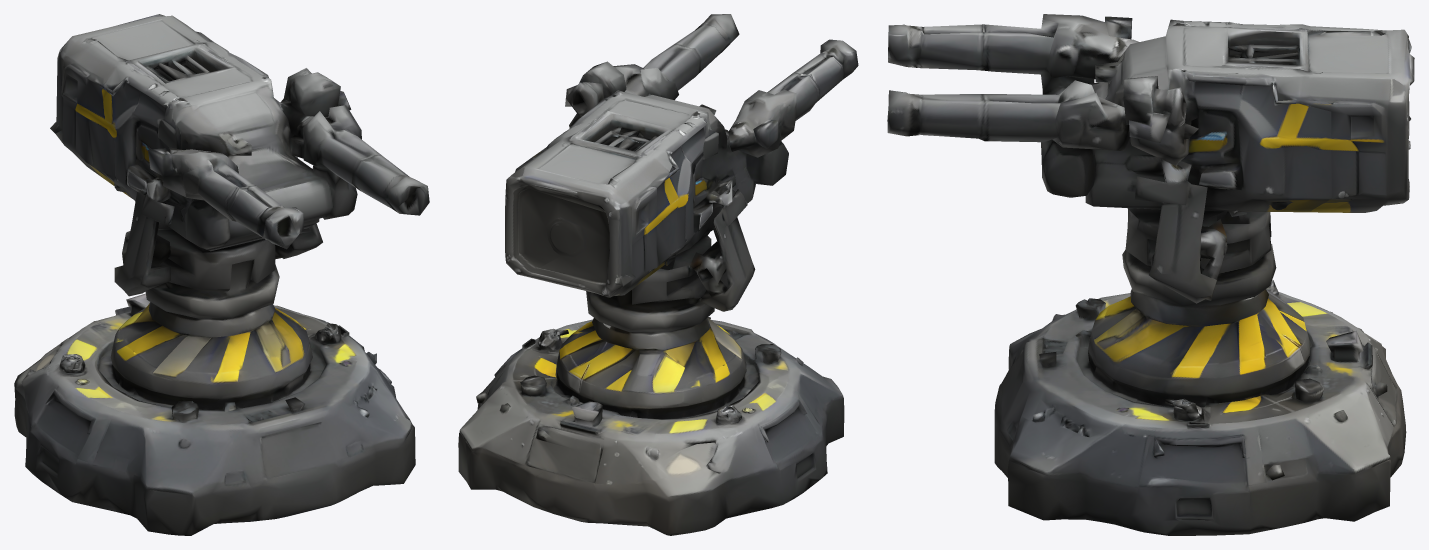
The model's file is sdp_turret_gun.glb.
3 views of the same model, side by side, from view 1: azimuth 30°, elevation 25°; view 2: azimuth 150°, elevation 25°; view 3: azimuth 270°, elevation 25° (orthographic). The views are drawn at different scales.
Visible parts, largest first — view 1: tripo_node_8a6ead61-b214-44d8-a04a-b8bef115867a; view 2: tripo_node_8a6ead61-b214-44d8-a04a-b8bef115867a; view 3: tripo_node_8a6ead61-b214-44d8-a04a-b8bef115867a.
Part boxes in pixels (<box>): tripo_node_8a6ead61-b214-44d8-a04a-b8bef115867a: <box>14,14,429,535</box>; tripo_node_8a6ead61-b214-44d8-a04a-b8bef115867a: <box>458,14,858,535</box>; tripo_node_8a6ead61-b214-44d8-a04a-b8bef115867a: <box>887,14,1414,535</box>.
Bounding box in the file's own units: 0.79 × 0.851 × 0.9817.
Materials: 1 (1 with a texture image).
